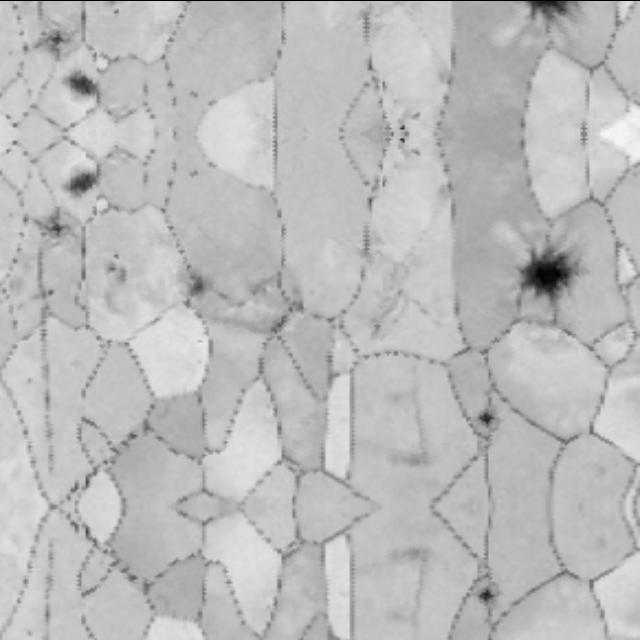good_void: (504, 231, 577, 309), (504, 0, 574, 35), (28, 20, 77, 66), (28, 201, 77, 246), (275, 284, 313, 324), (59, 164, 102, 199), (59, 68, 102, 103), (176, 272, 207, 314), (99, 247, 134, 284), (468, 406, 504, 433), (468, 581, 504, 608), (390, 133, 425, 160), (390, 106, 425, 133), (365, 307, 393, 338), (99, 0, 133, 19), (40, 282, 62, 304)
